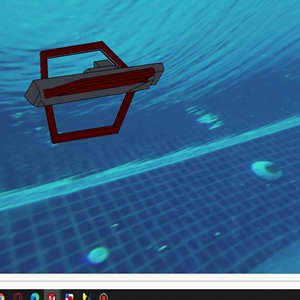submarine: (23, 41, 164, 145)
